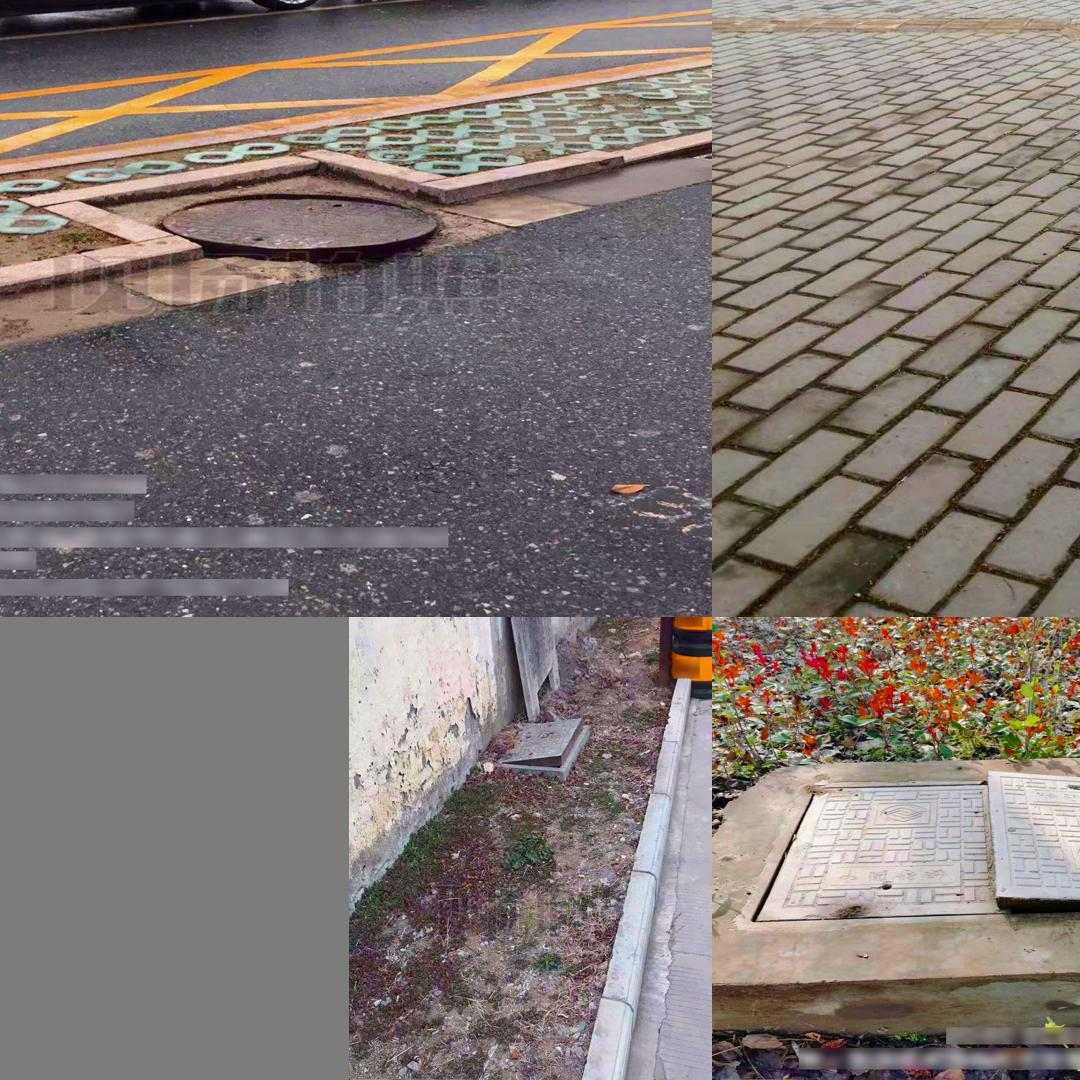uncovered: (737, 770, 1080, 929), (158, 196, 440, 265), (494, 717, 590, 778)
